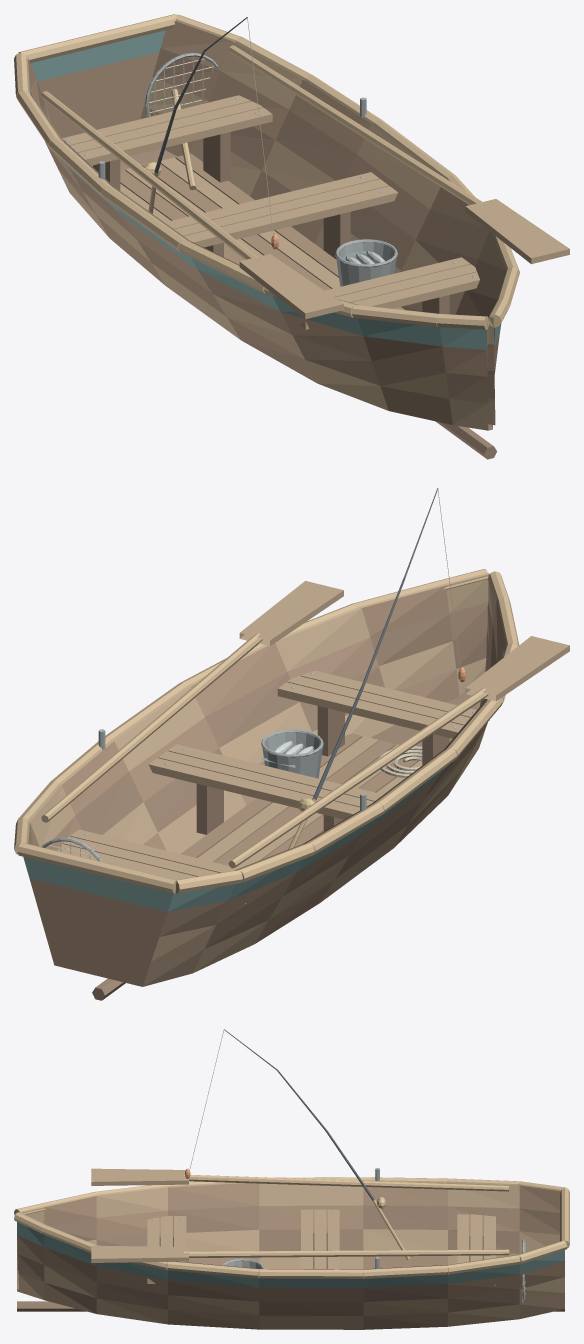
The model's file is barco-de-pesca.glb.
The picture shows the model from 3 angles, top to bottom: view 1: azimuth 30°, elevation 25°; view 2: azimuth 150°, elevation 25°; view 3: azimuth 270°, elevation 25°; orthographic projection. The views are drawn at different scales.
Visible parts, largest first — view 1: Banco -0.12 1, Pa do remo -1, Pa do remo 1, Espelho de popa 2, Banco -1.32 1, Cabo do remo 1, Forro 1 2 2, Espelho de popa 3, Cabo do remo -1, Espelho de popa 1, Forro 1 3 3, Borda de popa (+64 smaller); view 2: Espelho de popa 2, Espelho de popa 1, Banco -0.12 -1, Cabo do remo -1, Espelho de popa 3, Pa do remo 1, Pa do remo -1, Forro 1 3 5, Forro 1 2 4, Forro 1 3 4, Cabo do remo 1, Banco 1.06 -1 (+57 smaller); view 3: Forro -1 3 3, Forro -1 3 4, Cabo do remo 1, Cabo do remo -1, Forro -1 2 2, Forro -1 2 4, Forro -1 2 3, Forro -1 1 2, Forro -1 3 5, Pa do remo 1, Pa do remo -1, Forro -1 1 4 (+62 smaller).
Boxes of the visible parts, <box> form: Banco -0.12 1: <box>184,186,398,247</box>; Pa do remo -1: <box>239,254,343,319</box>; Pa do remo 1: <box>465,199,569,264</box>; Espelho de popa 2: <box>37,52,159,106</box>; Banco -1.32 1: <box>78,107,272,165</box>; Cabo do remo 1: <box>228,45,485,205</box>; Forro 1 2 2: <box>276,110,356,180</box>; Espelho de popa 3: <box>28,30,165,83</box>; Cabo do remo -1: <box>41,91,259,260</box>; Espelho de popa 1: <box>46,81,150,130</box>; Forro 1 3 3: <box>357,124,440,208</box>; Borda de popa: <box>18,14,176,63</box>; Espelho de popa 2: <box>29,878,167,936</box>; Espelho de popa 1: <box>38,907,159,961</box>; Banco -0.12 -1: <box>148,758,359,819</box>; Cabo do remo -1: <box>228,688,488,868</box>; Espelho de popa 3: <box>23,857,173,911</box>; Pa do remo 1: <box>239,581,343,645</box>; Pa do remo -1: <box>465,636,569,701</box>; Forro 1 3 5: <box>275,608,369,671</box>; Forro 1 2 4: <box>205,672,299,747</box>; Forro 1 3 4: <box>190,643,287,716</box>; Cabo do remo 1: <box>41,633,262,822</box>; Banco 1.06 -1: <box>277,682,463,738</box>; Forro -1 3 3: <box>259,1183,363,1205</box>; Forro -1 3 4: <box>168,1183,259,1210</box>; Cabo do remo 1: <box>183,1249,509,1257</box>; Cabo do remo -1: <box>183,1174,509,1191</box>; Forro -1 2 2: <box>363,1205,447,1229</box>; Forro -1 2 4: <box>168,1206,259,1233</box>; Forro -1 2 3: <box>259,1205,363,1229</box>; Forro -1 1 2: <box>363,1229,447,1250</box>; Forro -1 3 5: <box>96,1187,167,1217</box>; Pa do remo 1: <box>91,1245,188,1262</box>; Pa do remo -1: <box>91,1168,188,1185</box>; Forro -1 1 4: <box>186,1229,259,1251</box>.
Size of the model in its own units: 1.76 by 2.11 by 4.27.
